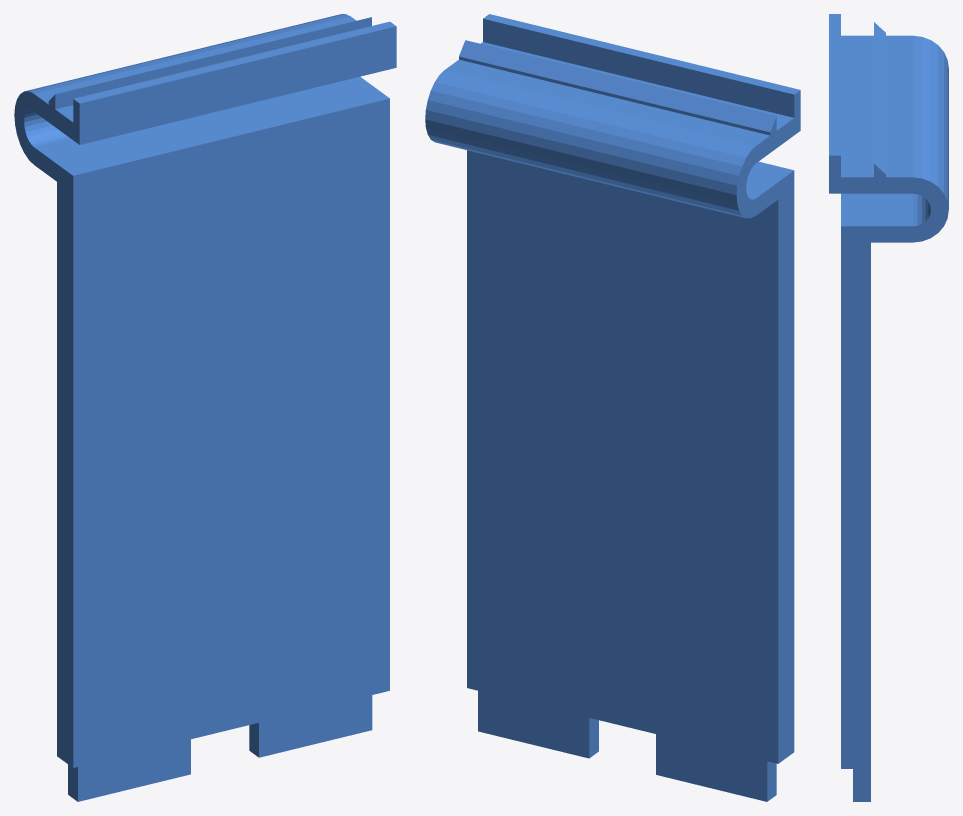
File: 3DPX-003287.glb
3 renders of one model, left to right at view 1: azimuth 30°, elevation 25°; view 2: azimuth 150°, elevation 25°; view 3: azimuth 270°, elevation 25°, orthographic. The views are drawn at different scales.
Parts seen in each view (by area): view 1: battery_snap_cover-repaired-nih3d; view 2: battery_snap_cover-repaired-nih3d; view 3: battery_snap_cover-repaired-nih3d.
Part boxes in pixels (x1,y1,x2,y2): battery_snap_cover-repaired-nih3d: [14, 14, 396, 801]; battery_snap_cover-repaired-nih3d: [425, 14, 800, 801]; battery_snap_cover-repaired-nih3d: [829, 14, 948, 801].
Bounding box in the file's own units: 28 × 60 × 10.
